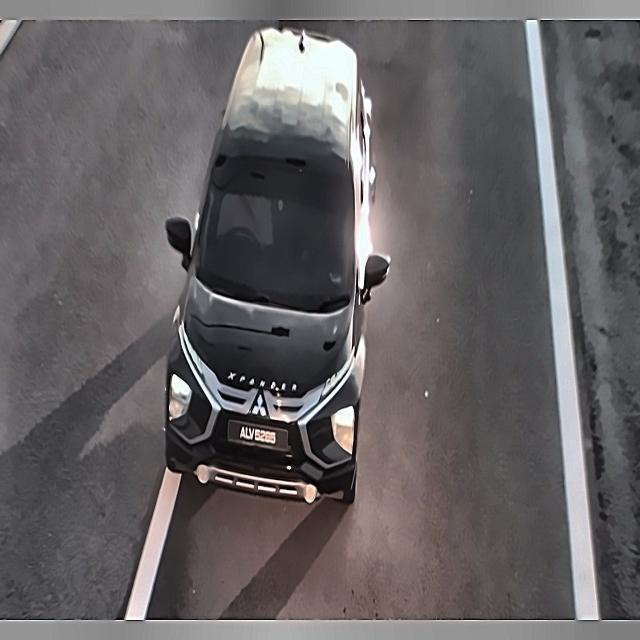car: (224, 409, 295, 462)
